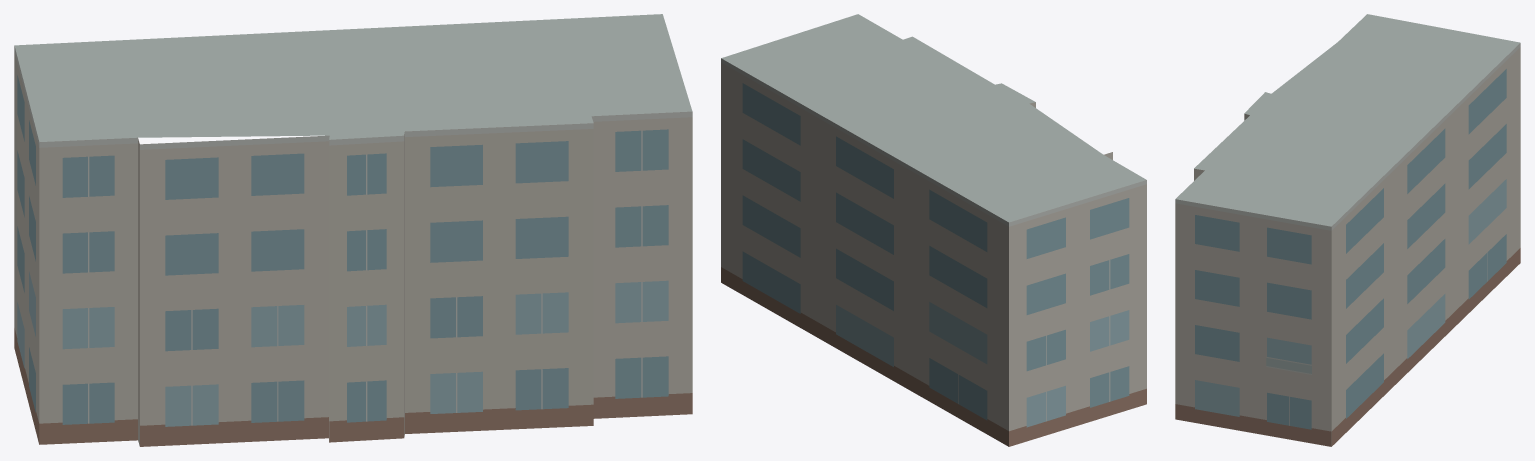
File: survey-upis-32992750.glb
3 views of the same model, side by side, from view 1: azimuth 30°, elevation 25°; view 2: azimuth 150°, elevation 25°; view 3: azimuth 270°, elevation 25° (orthographic). The views are drawn at different scales.
Visible parts, largest first — view 1: survey-upis-32992750.tmp; view 2: survey-upis-32992750.tmp; view 3: survey-upis-32992750.tmp.
Part boxes in pixels (bbox=[...]): survey-upis-32992750.tmp: bbox=[14, 14, 692, 446]; survey-upis-32992750.tmp: bbox=[721, 14, 1146, 446]; survey-upis-32992750.tmp: bbox=[1175, 14, 1520, 446].
Bounding box in the file's own units: 26.73 × 12.9 × 18.35.
